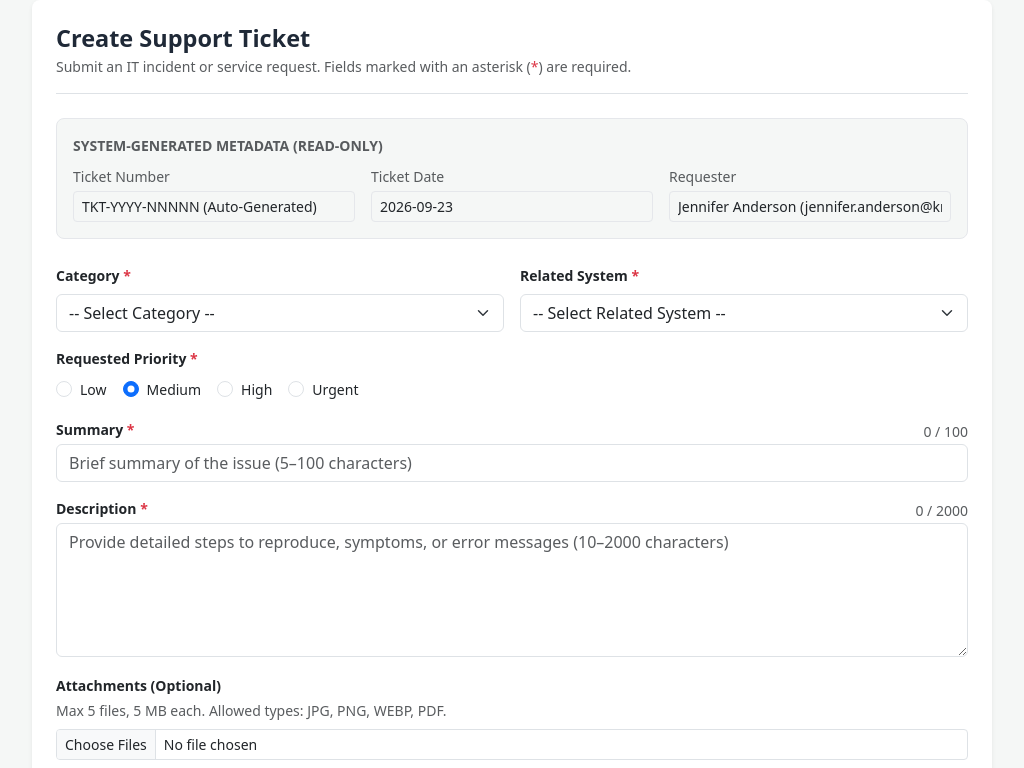
Component: CreateTicket Form (UI-03, UI-04, UI-05) › submitting busy state: disables button and displays spinner (AC-19)
Note: Fill valid data
Select "Account and Access" in the dropdown labelled "Category *": coordinates (280, 313) left=56, top=294, right=504, bottom=332
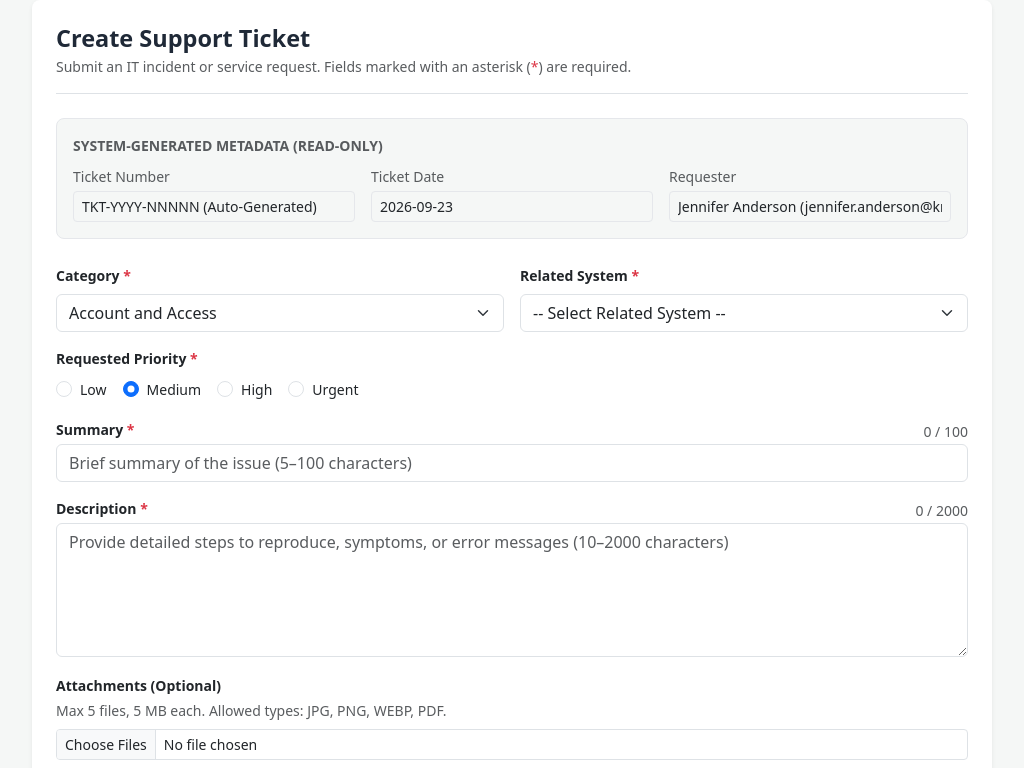
Select "Email" in the dropdown labelled "Related System *": coordinates (744, 313) left=520, top=294, right=968, bottom=332
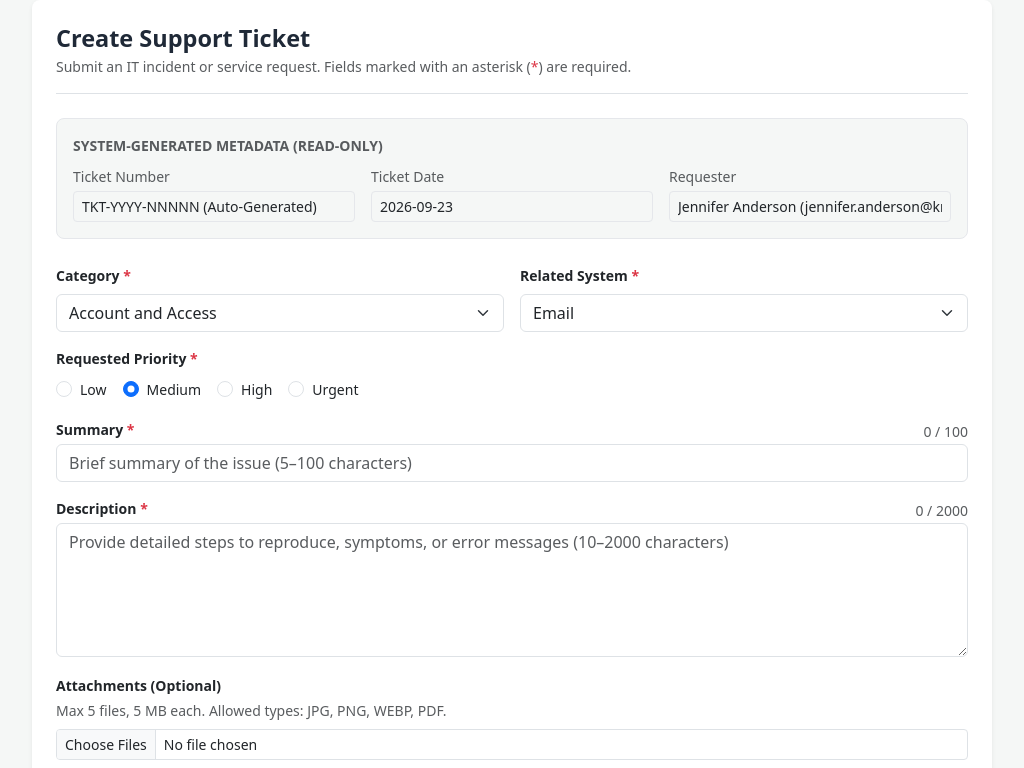
In the field labelled "Summary *": coordinates (512, 463) left=56, top=444, right=968, bottom=482, type "Valid summary for test"
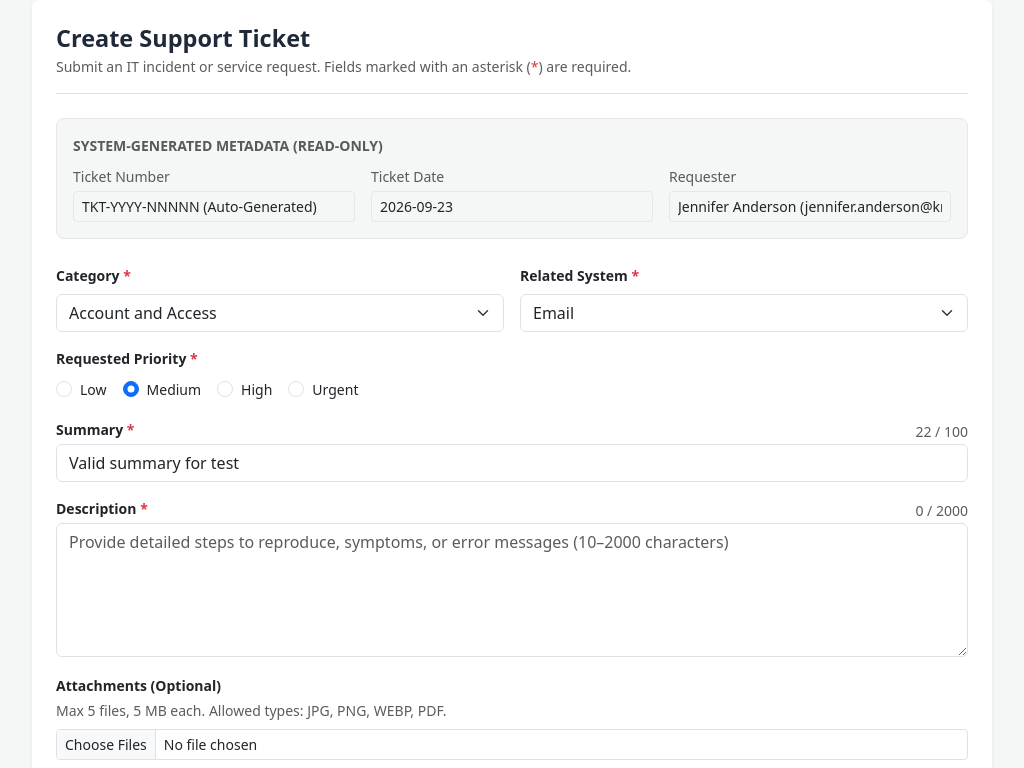
Replace the text in the text box labelled "Description *" with "Valid description that has more than ten characters.": coordinates (512, 590) left=56, top=523, right=968, bottom=657
(page scrolled)
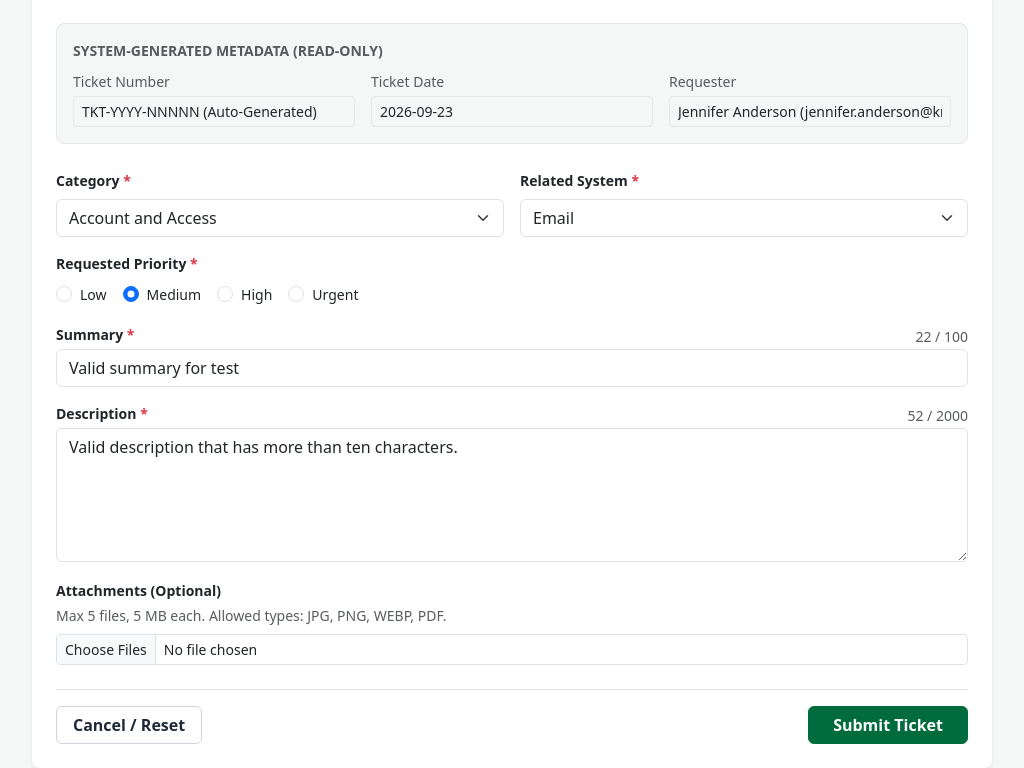
Click the button "Submit Ticket": coordinates (888, 725) left=808, top=706, right=968, bottom=744
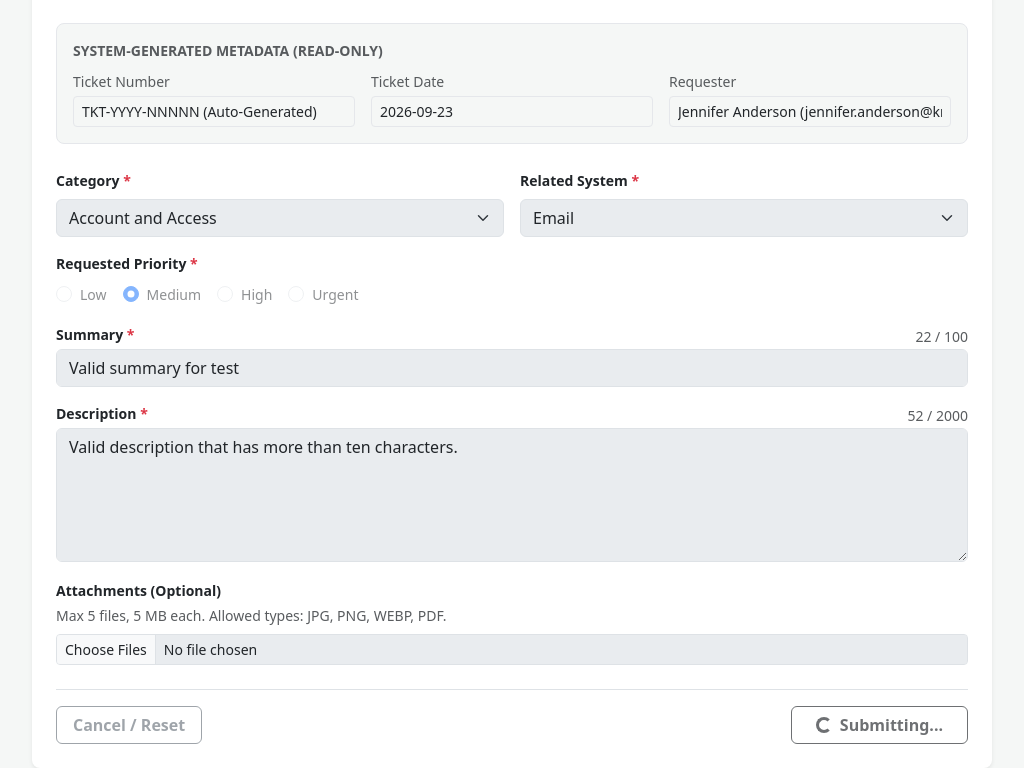
expect the button "Submitting..." is disabled: met, box left=791, top=706, right=968, bottom=744
